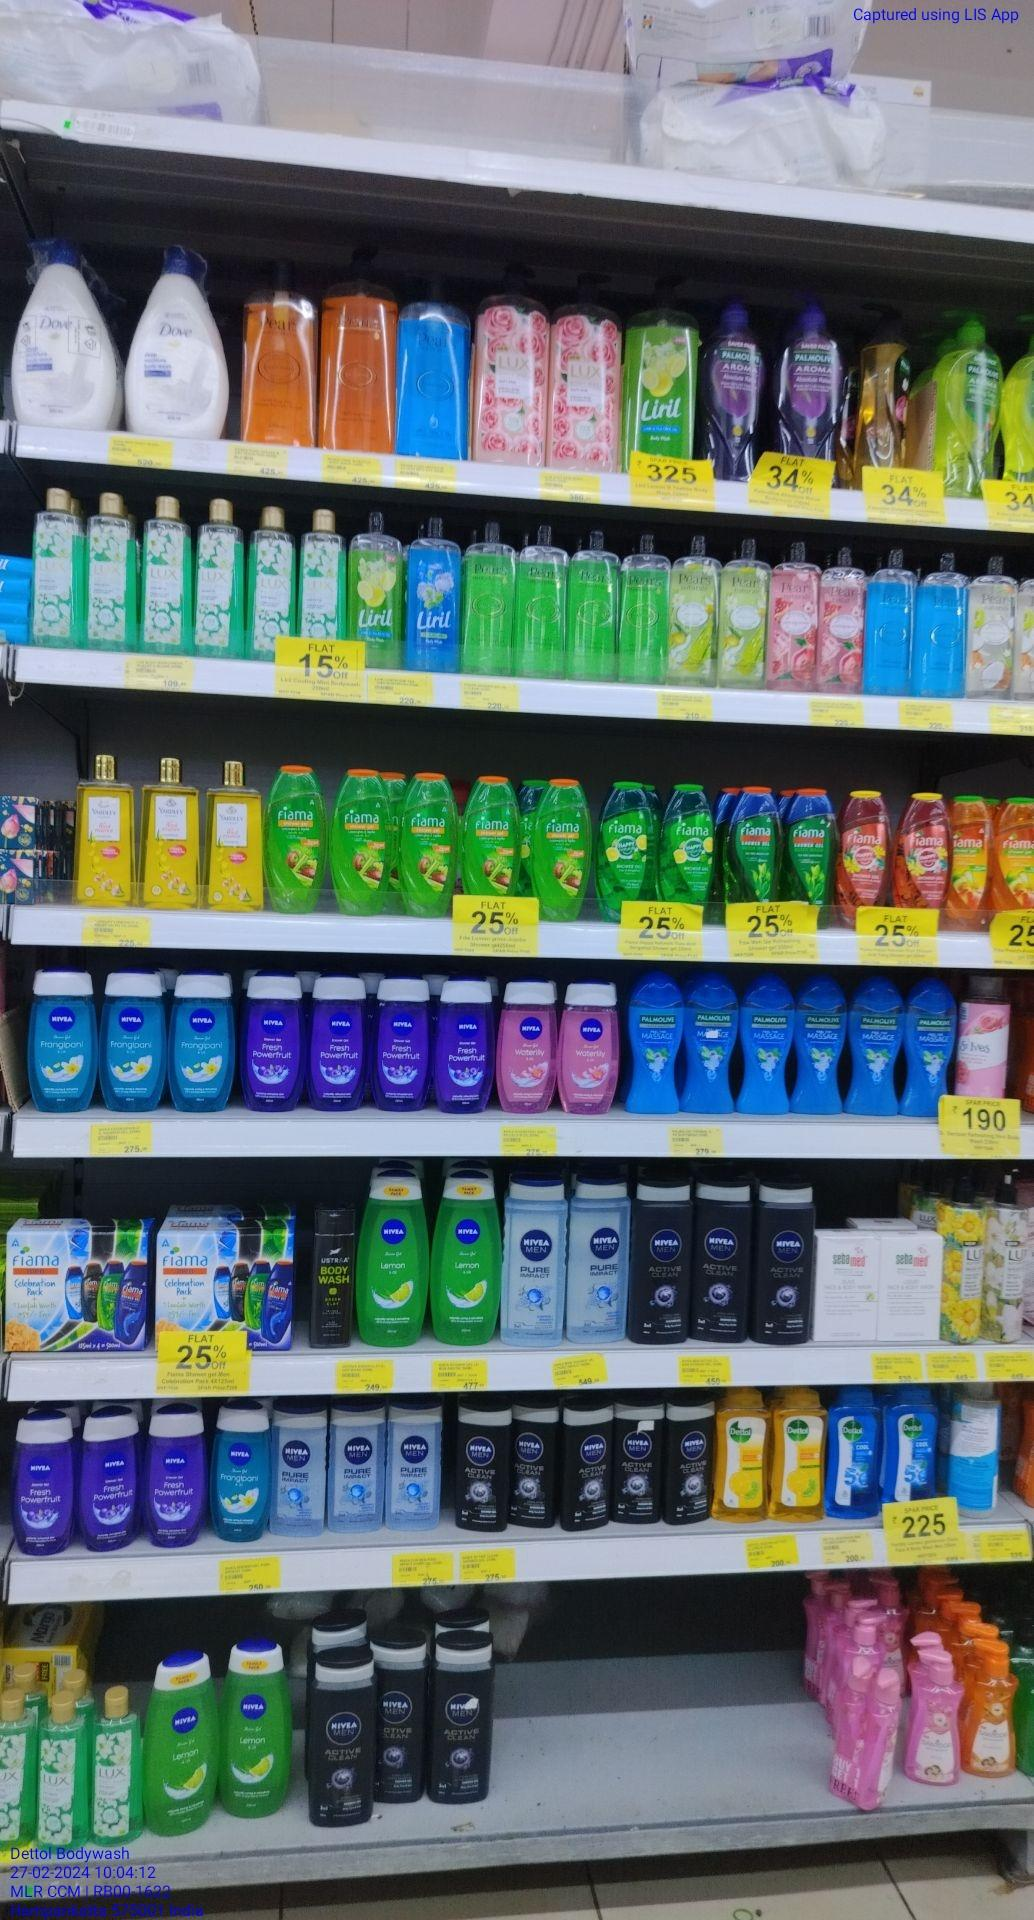Dettol_Bodywash_Cool: (828, 1385, 884, 1521), (884, 1385, 938, 1502)
Dettol_Bodywash_Refresh: (773, 1389, 823, 1525), (717, 1389, 763, 1524)
Fiama_Shower_Gel_Lemongrass_and_Jojoba_250ML: (265, 763, 323, 915), (401, 774, 460, 918), (336, 764, 390, 915), (535, 774, 590, 921), (462, 775, 521, 894)
Fiama_Shower_Gel_Peach_and_Avocado_250ML: (946, 791, 993, 936), (993, 791, 1034, 914)
Liril_Cooling_Mint_Body_Wash_250ML: (406, 516, 457, 671), (349, 509, 399, 668)
Lux_Body_Wash_Skin_Detox_Freesia_Scent_and_Alove_Vera_245ML: (31, 485, 83, 649), (143, 495, 192, 656), (90, 1688, 140, 1849), (87, 489, 135, 652), (250, 505, 299, 663), (38, 1697, 84, 1861), (196, 497, 242, 660), (301, 505, 343, 642), (1, 1690, 33, 1856)
Nivea_Shower_Gel_Frangipani_and_Oil_250ML: (31, 961, 93, 1113), (99, 968, 164, 1113), (171, 970, 234, 1113), (213, 1397, 271, 1544)
Nivea_Shower_Gel_Fresh_Powerfruit_250ML: (143, 1406, 208, 1549), (15, 1411, 76, 1557), (243, 970, 304, 1113), (308, 973, 369, 1110), (81, 1403, 136, 1552), (374, 975, 430, 1112), (439, 975, 494, 1113)
Nivea_Shower_Gel_Lemon_and_Oil_250ML: (150, 1654, 214, 1840), (360, 1175, 427, 1348), (223, 1640, 285, 1821), (436, 1174, 500, 1346)
Nivea_Shower_Gel_Waterlily_and_Oil_250ML: (558, 978, 620, 1119), (500, 975, 553, 1114)
Palmolive_Aroma_Moments_Feel_The_Massage_Shower_Gel_250ML: (684, 969, 737, 1117), (627, 969, 679, 1118), (849, 977, 904, 1115), (741, 970, 792, 1117), (797, 977, 846, 1118), (907, 978, 953, 1119)
Pears_Naturale_Aloe_Vera_Body_Wash_250ML: (721, 535, 767, 689), (672, 533, 718, 686)
Pears_Pure_Glycerin_and_Lemon_Flower_Extracts_Body_Wash_250ML: (570, 526, 618, 682), (520, 522, 565, 677), (466, 519, 512, 672), (623, 527, 666, 685)
Pears_Pure_Glycerin_and_Mint_Extracts_Body_Wash_250ML: (919, 554, 970, 700), (867, 546, 913, 696)
